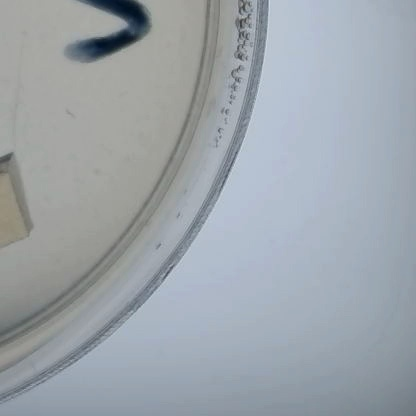worm: (43, 102, 84, 119)
